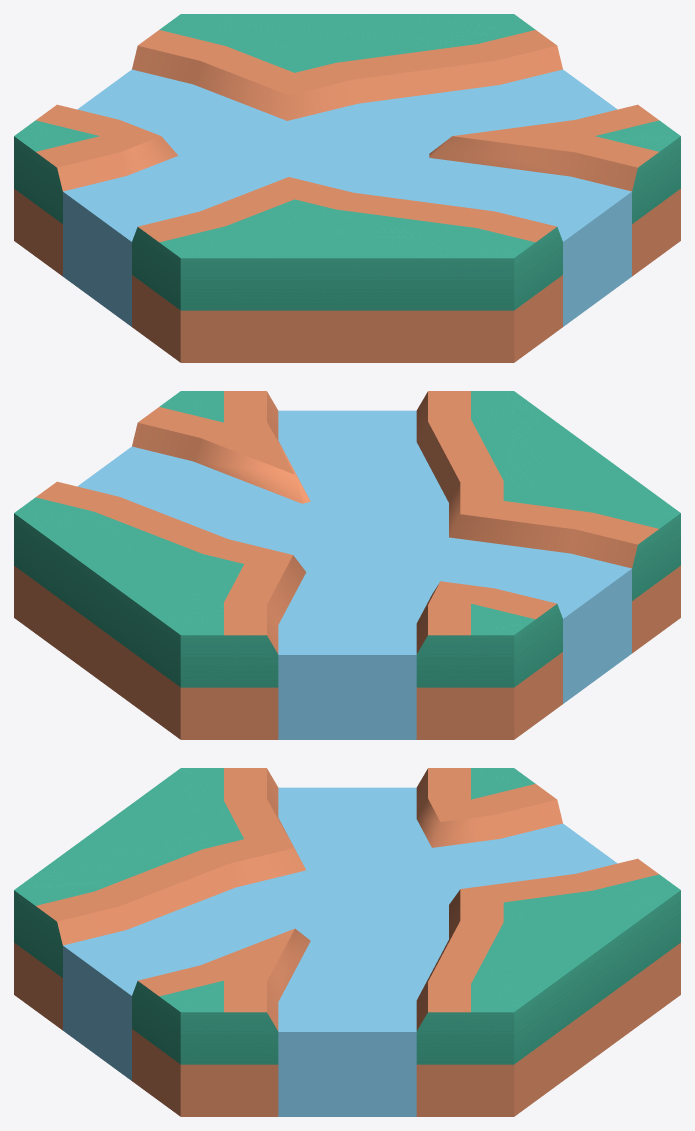
Rendered from river-intersectionE.glb.
3 renders of one model, top to bottom at view 1: azimuth 30°, elevation 25°; view 2: azimuth 150°, elevation 25°; view 3: azimuth 270°, elevation 25°, orthographic.
Visible parts, largest first — view 1: river-intersectionE; view 2: river-intersectionE; view 3: river-intersectionE.
Part boxes in pixels (x1=…): river-intersectionE: x1=14, y1=14, x2=680, y2=362; river-intersectionE: x1=14, y1=391, x2=680, y2=739; river-intersectionE: x1=14, y1=768, x2=680, y2=1116.
Size of the model in its own units: 10 by 2 by 11.55.
1 material, 1 textured.
